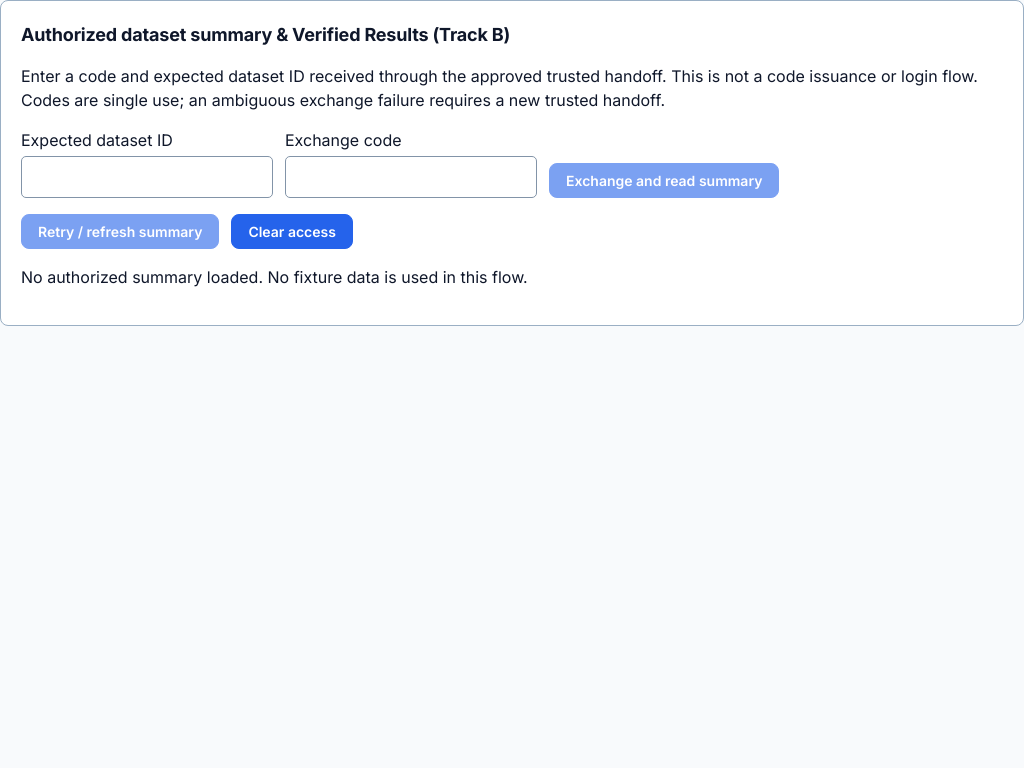
shows sanitized errors without fixtures and retries only summary reads
Type "dataset-a" into the field labelled "Expected dataset ID". click: [147, 177]
box: left=21, top=156, right=273, bottom=198
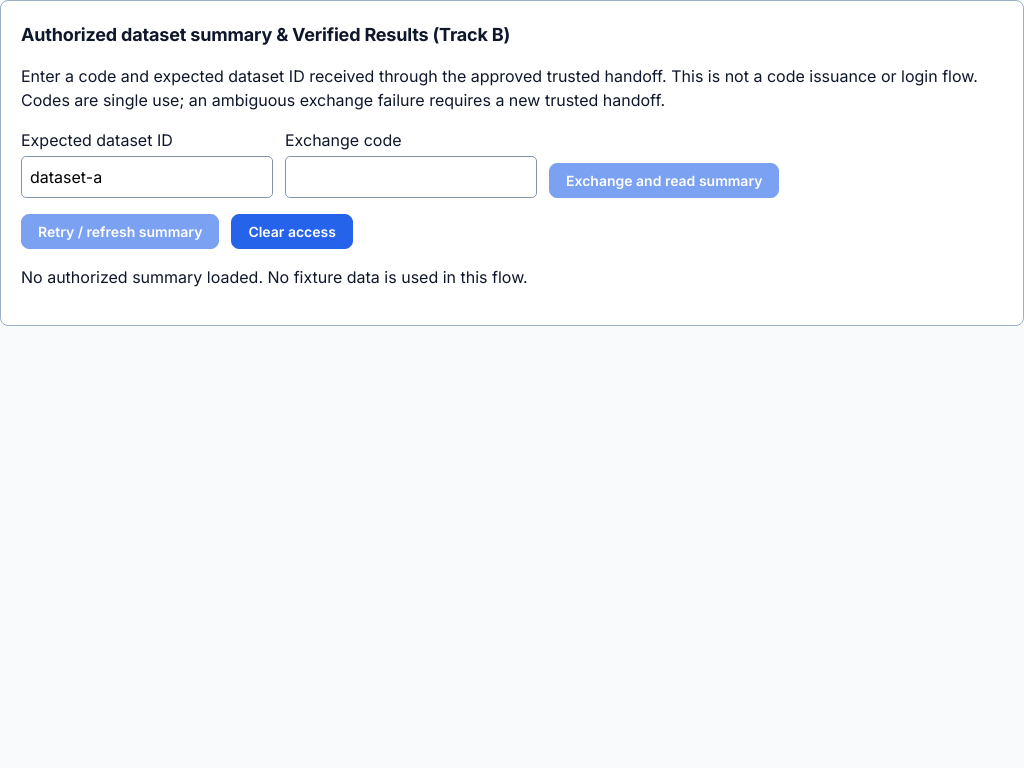
Type "trusted-code" into the password field labelled "Exchange code". click: [411, 177]
box: left=285, top=156, right=537, bottom=198
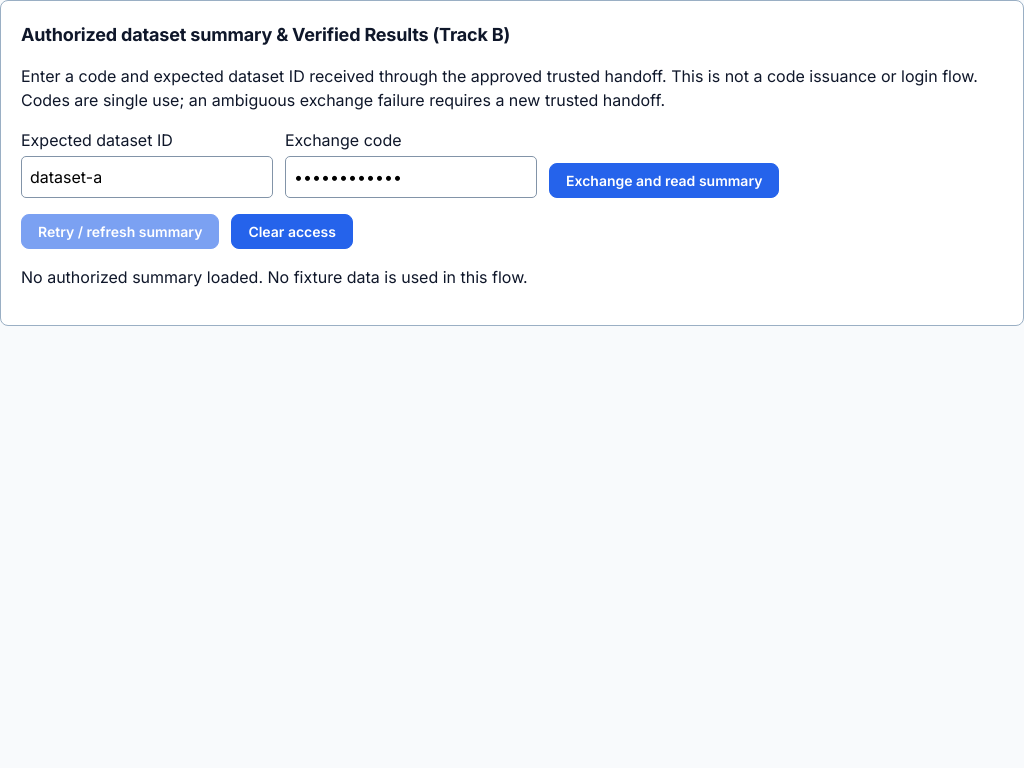
Click the button "Exchange and read summary". click: [664, 180]
box: left=549, top=163, right=779, bottom=198
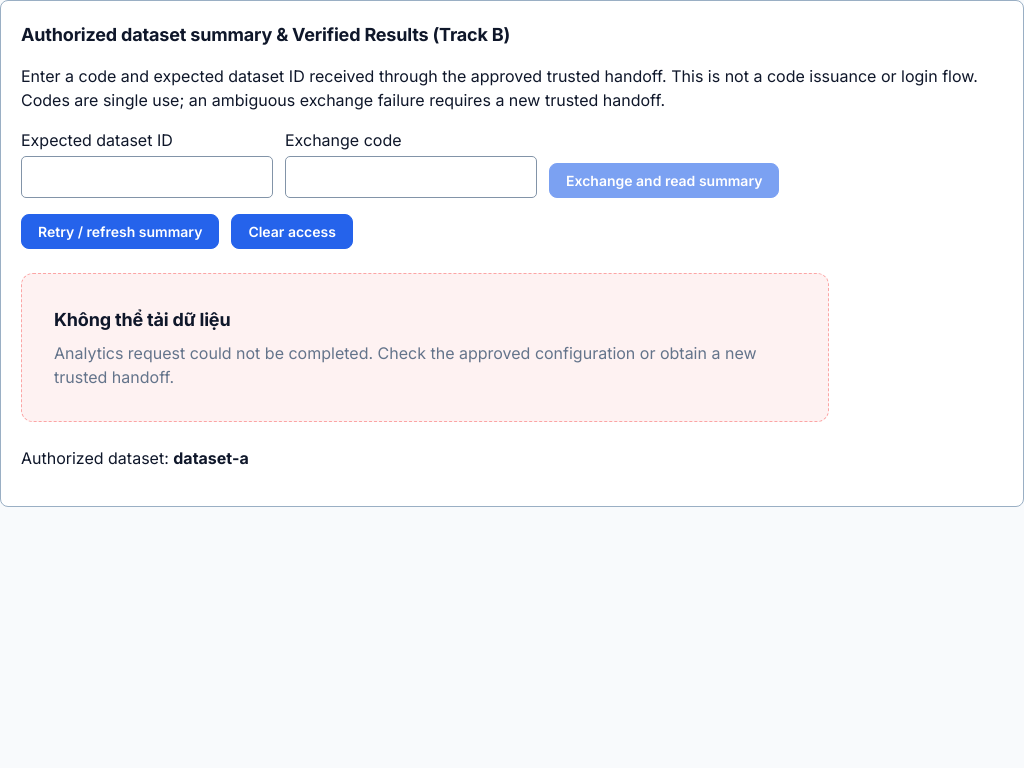
Expected: the text "Annotations available" is not shown
Now the message is shown, box left=21, top=273, right=828, bottom=422
Click the button "Retry / refresh summary". click: [120, 232]
box: left=21, top=214, right=219, bottom=249
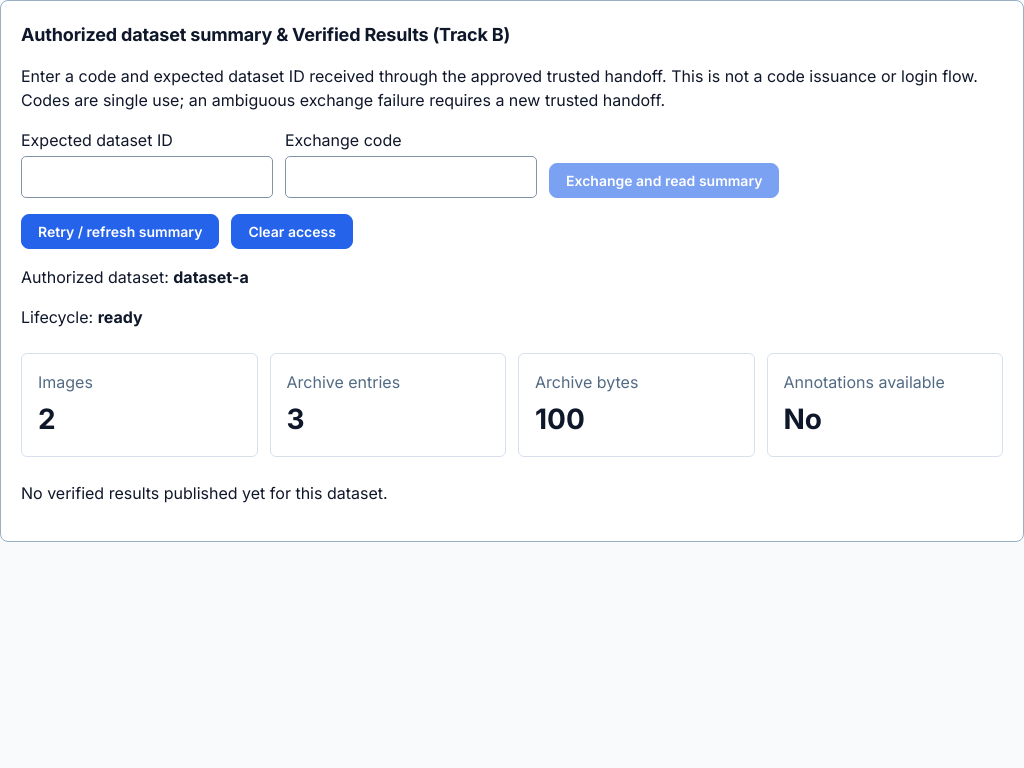
Now the text "Annotations available" is shown, box left=784, top=372, right=945, bottom=392
